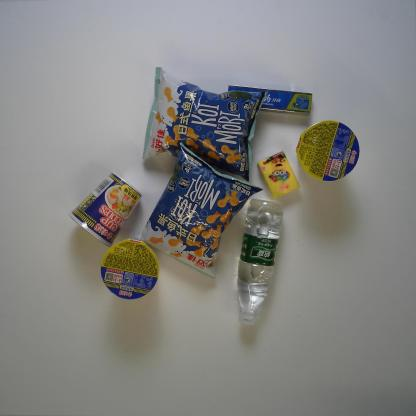Drink: (236, 196, 284, 328)
Instant Noodles: (67, 170, 144, 249), (294, 118, 360, 185), (100, 237, 160, 303)
Personal Hygiene: (224, 85, 315, 117)
Puffed Food: (136, 140, 267, 280), (140, 65, 270, 184)
Tissue: (256, 151, 300, 201)
